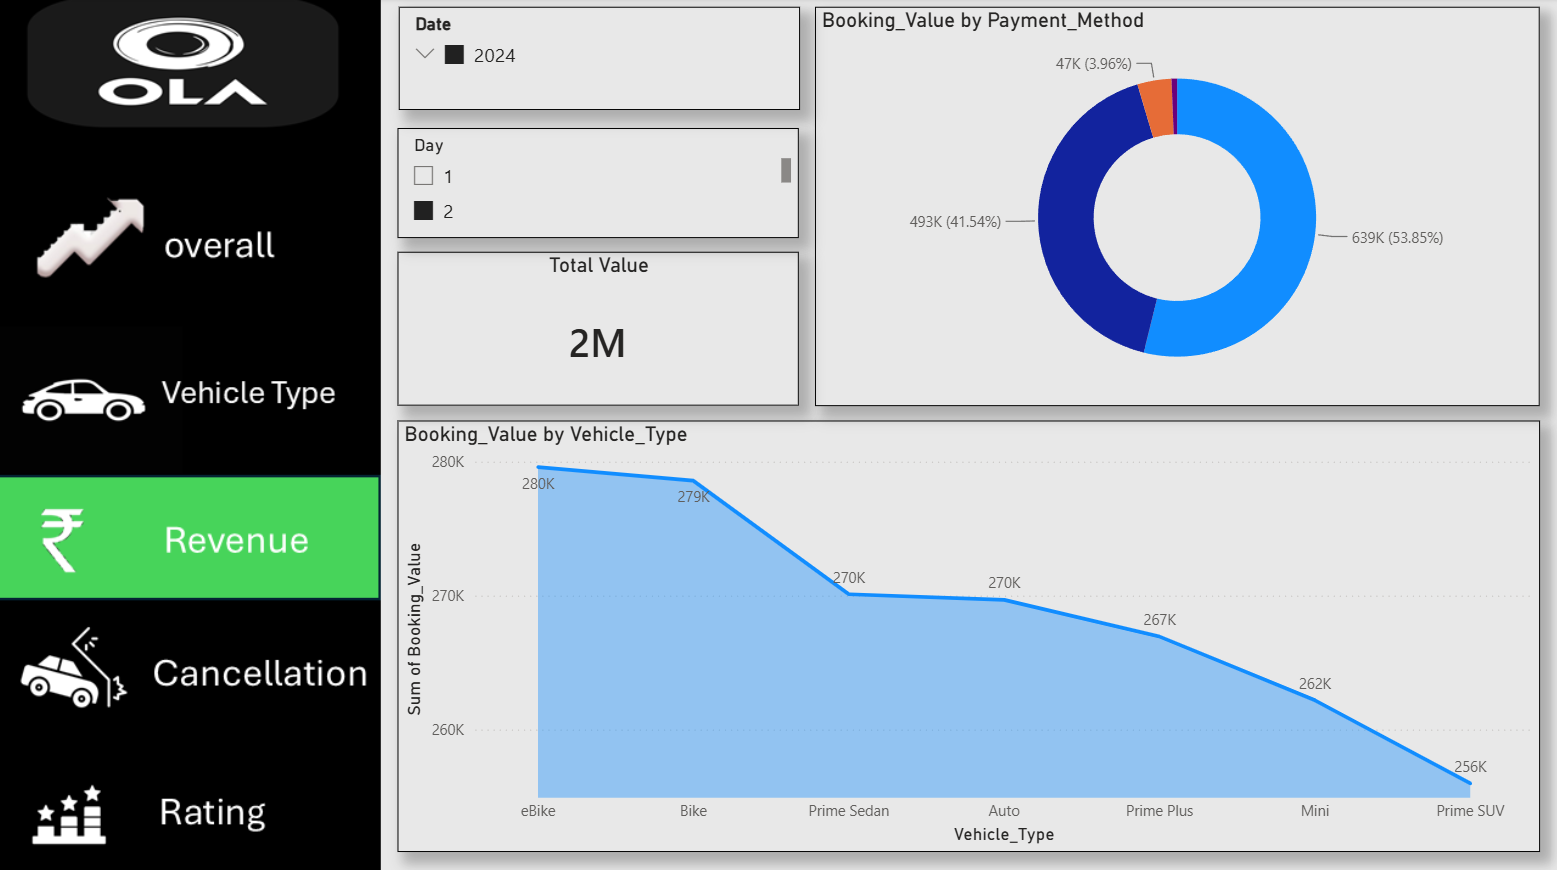

The dashboard page shown, as its layout file describes it:
{"tool":"powerbi","page":{"name":"Revenue","canvas":[1280,720],"ordinal":2},"visuals":[{"type":"actionButton","box":[0,506.3,311.5,101.5],"z":0},{"type":"actionButton","box":[0,146.8,311.5,101.5],"z":1000},{"type":"actionButton","box":[968.8,618.9,311.5,101.5],"z":2000},{"type":"actionButton","box":[1.4,618.9,311.5,101.5],"z":3000},{"type":"actionButton","box":[0,274.4,311.5,101.5],"z":4000},{"type":"areaChart","title":"Booking_Value by Vehicle_Type","fields":{"Category":["July.Vehicle_Type"],"Y":["Sum(July.Booking_Value)"]},"box":[326.6,347.2,938.6,354],"z":4001},{"type":"donutChart","title":"Booking_Value by Payment_Method","fields":{"Category":["July.Payment_Method"],"Y":["Sum(July.Booking_Value)"]},"box":[669.6,6.9,595.5,328],"z":4002},{"type":"slicer","fields":{"Values":["July.Date.Variation.Date Hierarchy.Year","July.Date.Variation.Date Hierarchy.Month","July.Date.Variation.Date Hierarchy.Day"]},"box":[328,6.9,329.3,85.1],"z":4003},{"type":"slicer","fields":{"Values":["July.Date.Variation.Date Hierarchy.Day"]},"box":[326.6,107,329.3,90.6],"z":4004},{"type":"cardVisual","title":"Total Value","fields":{"Data":["Sum(July.Booking_Value)"]},"box":[326.6,208.6,329.3,126.2],"z":4005}]}

Visuals, with their boxes on the page's 1280x720 design canvas (x1, y1, x2, y2). These are canvas units, not pixel positions in the 1557x870 screenshot, which may show the page scaled, cropped or inside an application window:
actionButton: select_region(0, 506, 312, 608)
actionButton: select_region(0, 147, 312, 248)
actionButton: select_region(969, 619, 1280, 720)
actionButton: select_region(1, 619, 313, 720)
actionButton: select_region(0, 274, 312, 376)
"Booking_Value by Vehicle_Type" areaChart: select_region(327, 347, 1265, 701)
"Booking_Value by Payment_Method" donutChart: select_region(670, 7, 1265, 335)
slicer - July.Date.Variation.Date Hierarchy.Year x July.Date.Variation.Date Hierarchy.Month: select_region(328, 7, 657, 92)
slicer - July.Date.Variation.Date Hierarchy.Day: select_region(327, 107, 656, 198)
"Total Value" cardVisual: select_region(327, 209, 656, 335)
